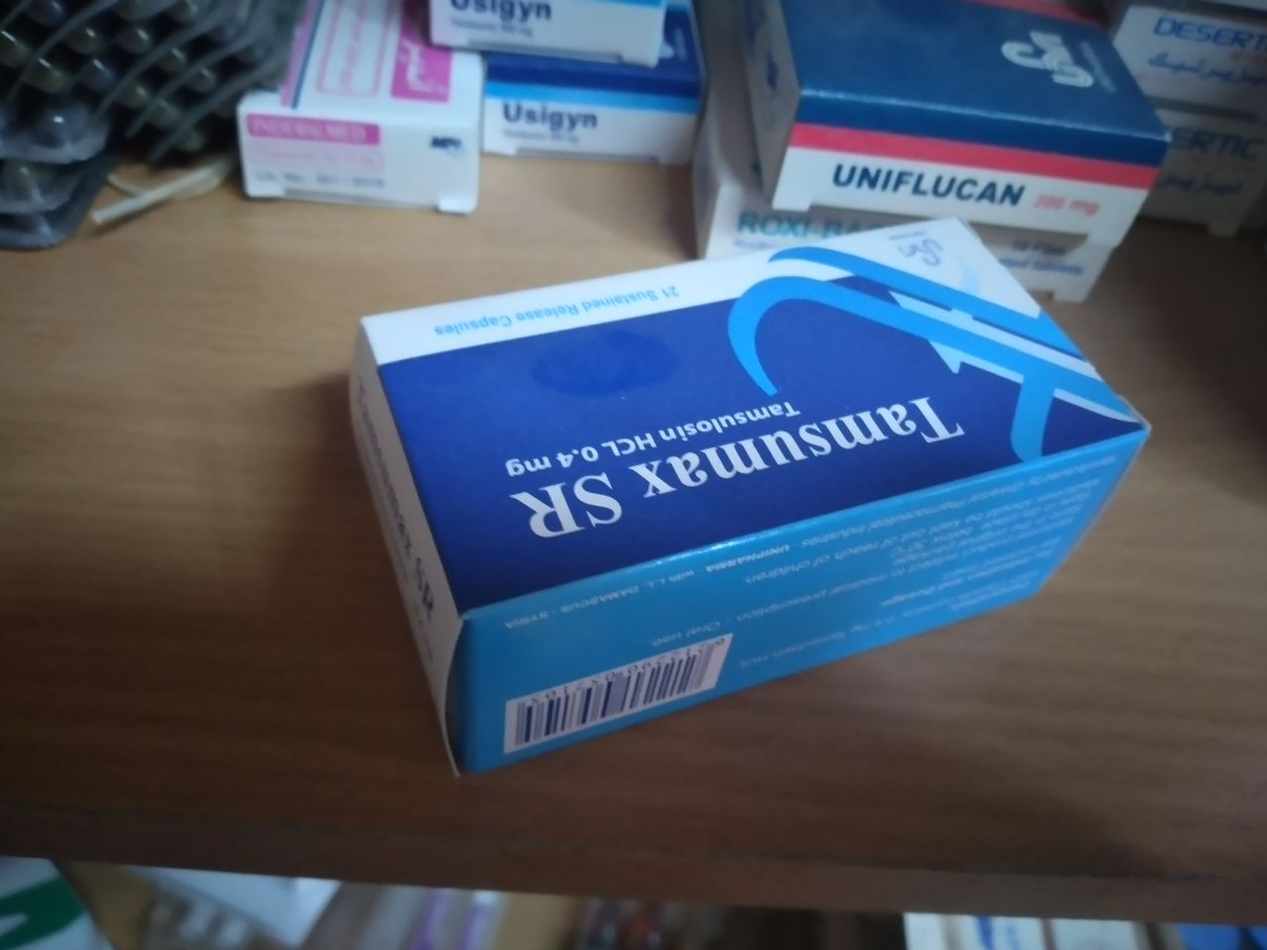Medicine: (329, 213, 1166, 787), (740, 0, 1173, 255), (235, 0, 478, 225), (463, 49, 700, 188)
